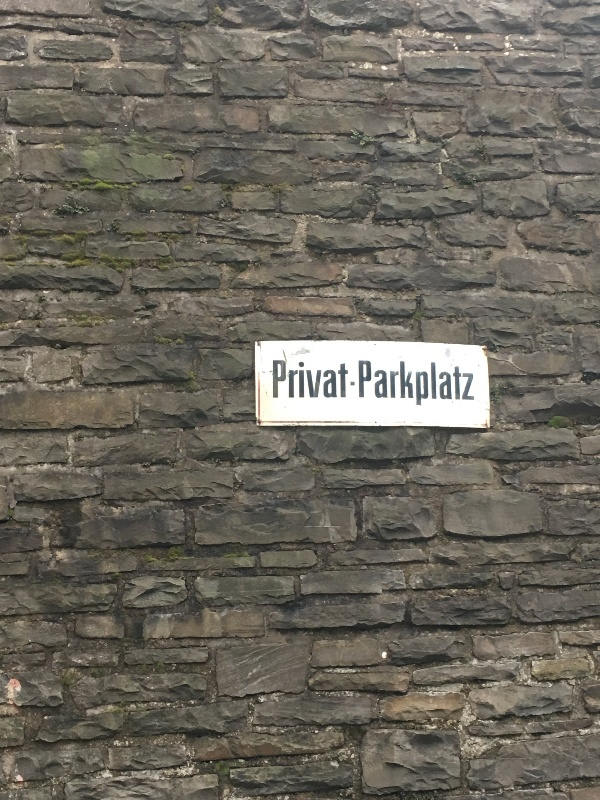text: (273, 360, 288, 409), (289, 360, 304, 409), (305, 360, 320, 409), (321, 360, 336, 409), (337, 360, 352, 409), (353, 360, 368, 409), (369, 360, 384, 409), (385, 360, 400, 409), (401, 360, 416, 409), (417, 360, 432, 409), (433, 360, 448, 409), (449, 360, 464, 409), (465, 360, 475, 409)
